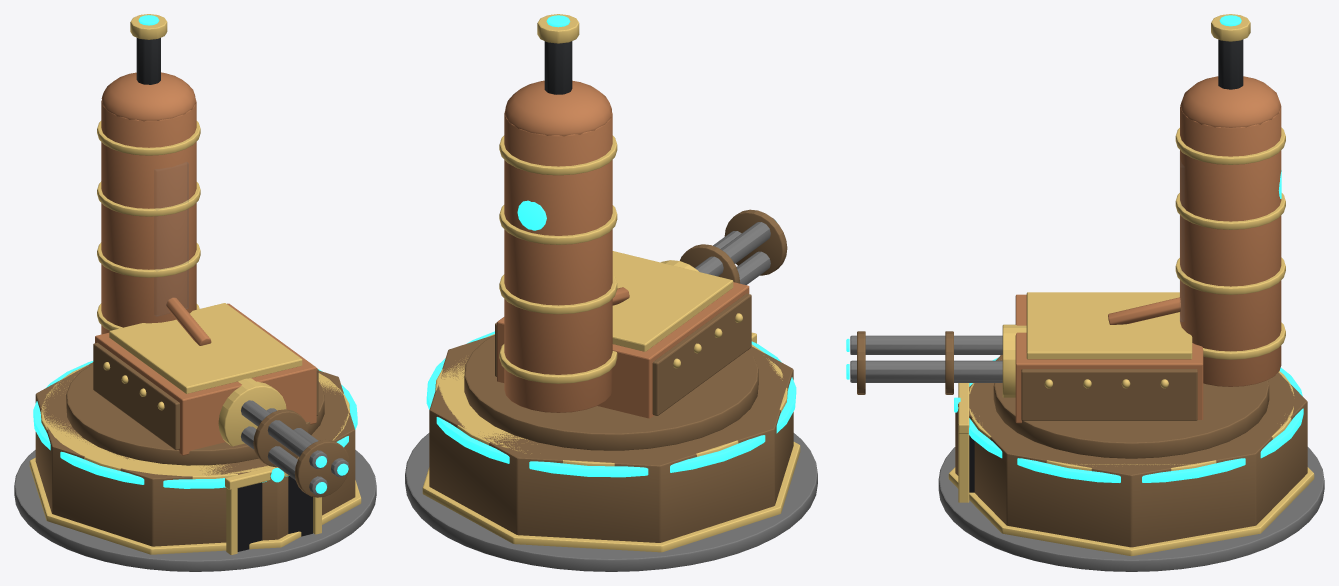
File: Machinegoon_T1_Pepperbox.glb
3 views of the same model, side by side, from view 1: azimuth 30°, elevation 25°; view 2: azimuth 150°, elevation 25°; view 3: azimuth 270°, elevation 25° (orthographic). The views are drawn at different scales.
Parts seen in each view (by area): view 1: Machinegoon_T1_Pepperbox_Turret, Machinegoon_T1_Pepperbox_Base; view 2: Machinegoon_T1_Pepperbox_Turret, Machinegoon_T1_Pepperbox_Base; view 3: Machinegoon_T1_Pepperbox_Turret, Machinegoon_T1_Pepperbox_Base.
Part boxes in pixels (box(x1,y1,x2,y2)): Machinegoon_T1_Pepperbox_Turret: box(66, 14, 349, 497); Machinegoon_T1_Pepperbox_Base: box(14, 361, 376, 571); Machinegoon_T1_Pepperbox_Turret: box(464, 14, 787, 450); Machinegoon_T1_Pepperbox_Base: box(405, 331, 817, 571); Machinegoon_T1_Pepperbox_Turret: box(846, 14, 1285, 458); Machinegoon_T1_Pepperbox_Base: box(938, 355, 1324, 571).
Size of the model in its own units: 3.5 by 4.72 by 4.34.
